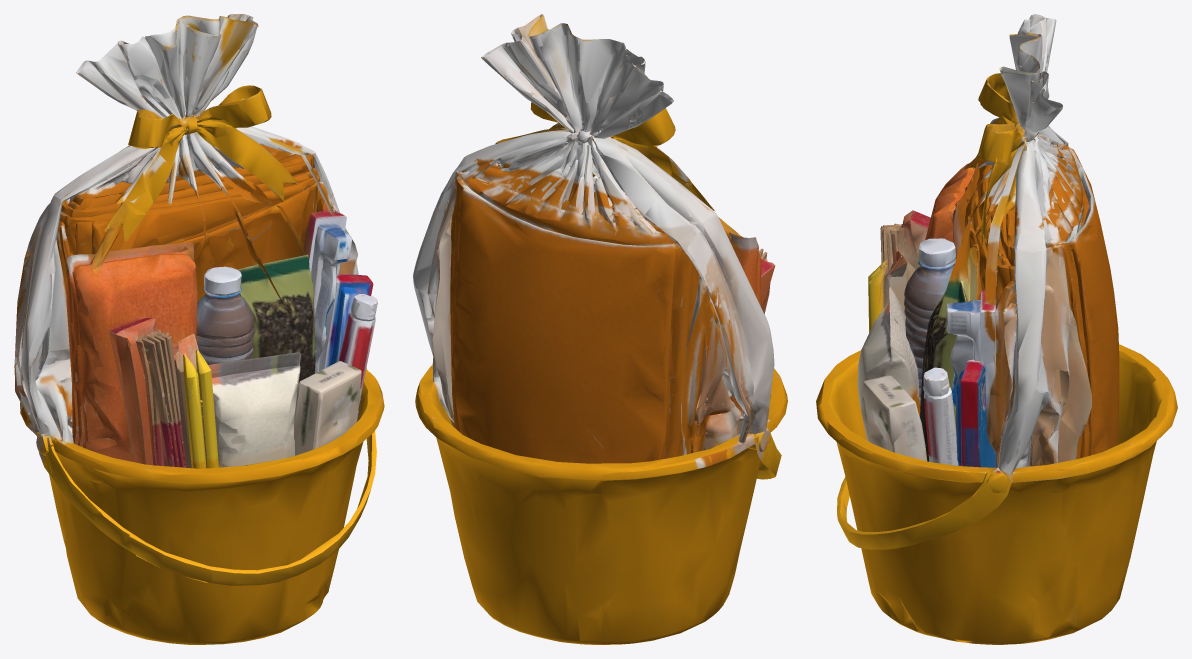
The model's file is sangkathan.glb.
3 views of the same model, side by side, from view 1: azimuth 30°, elevation 25°; view 2: azimuth 150°, elevation 25°; view 3: azimuth 270°, elevation 25° (orthographic). The views are drawn at different scales.
Visible parts, largest first — view 1: output; view 2: output; view 3: output.
Part boxes in pixels (bbox=[...]): output: bbox=[14, 14, 384, 644]; output: bbox=[413, 14, 787, 644]; output: bbox=[816, 14, 1177, 644].
Bounding box in the file's own units: 1.2 × 1.9 × 1.11.
1 material, 1 textured.
